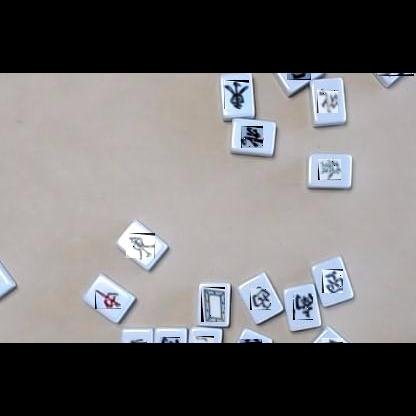1z: (224, 80, 249, 109), (126, 233, 155, 258), (239, 339, 262, 343)
2z: (293, 293, 313, 320), (159, 337, 180, 343), (321, 338, 343, 343)
3z: (322, 269, 343, 293), (250, 288, 271, 310), (287, 73, 311, 80), (126, 339, 147, 343)
4z: (241, 126, 263, 148), (317, 90, 338, 113)
5z: (201, 287, 225, 322), (376, 73, 414, 76)
6z: (318, 159, 341, 180), (193, 336, 214, 343)
7z: (95, 289, 121, 309)
